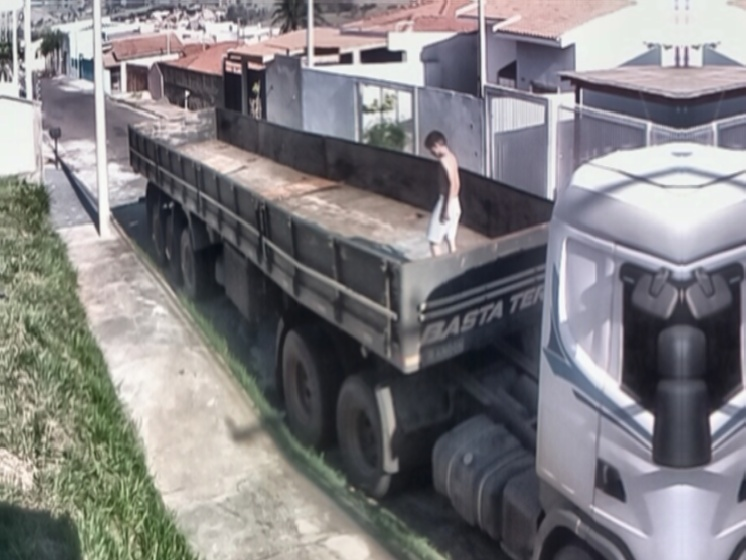person: (422, 126, 462, 259)
